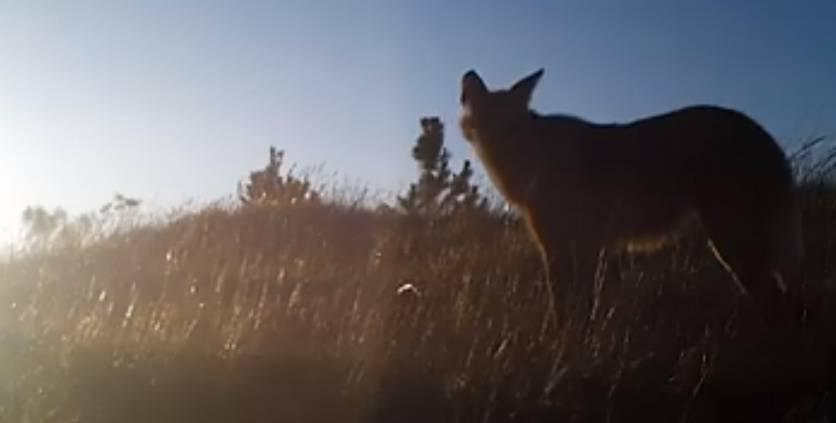LoboGuara: (445, 63, 806, 319)
